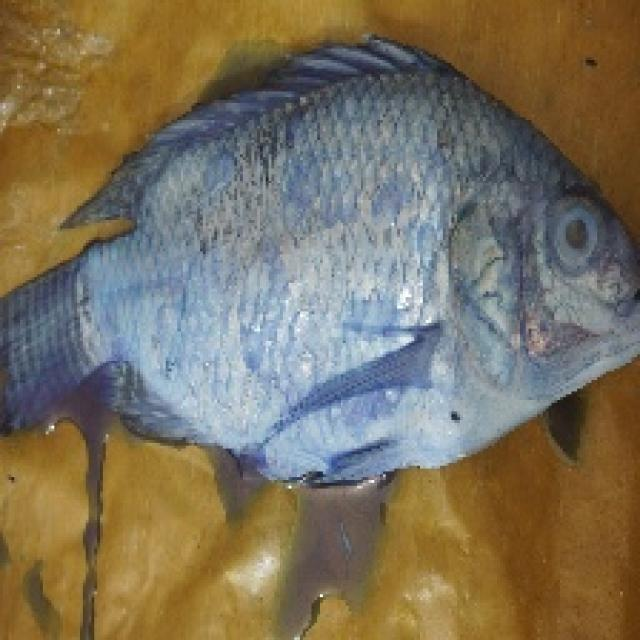Non-Fresh: (140, 89, 640, 468), (542, 197, 601, 277)
